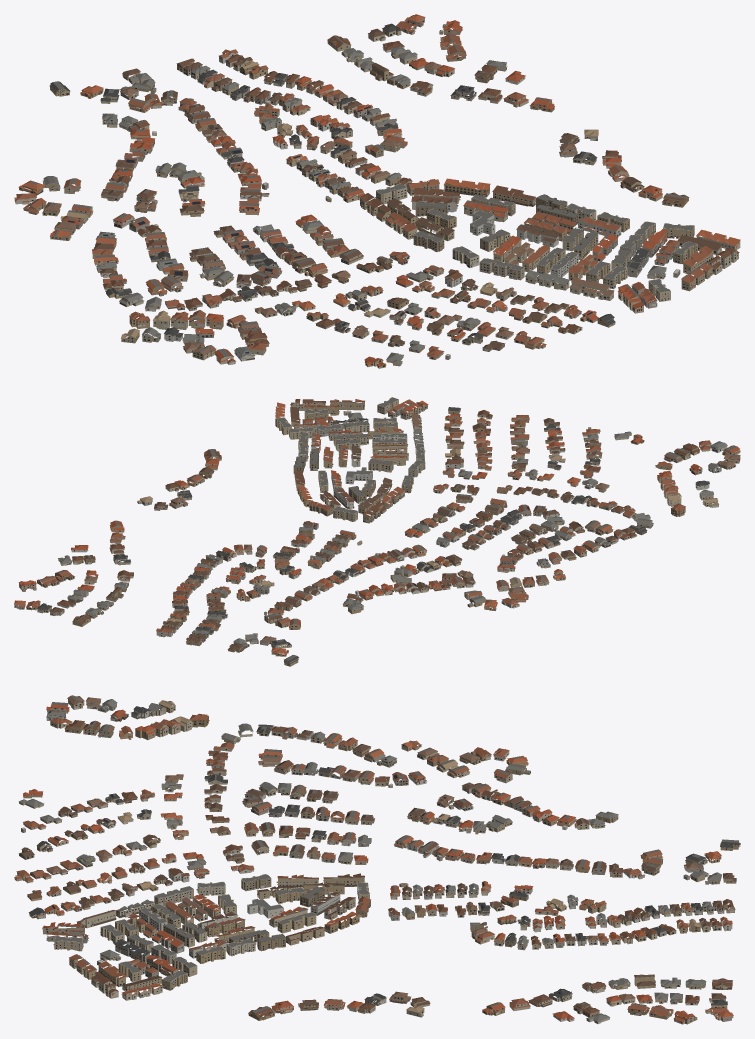
The picture shows the model from 3 angles, top to bottom: view 1: azimuth 30°, elevation 25°; view 2: azimuth 150°, elevation 25°; view 3: azimuth 270°, elevation 25°; orthographic projection. The views are drawn at different scales.
Parts seen in each view (by area): view 1: buildings_r1_c6_lod0; view 2: buildings_r1_c6_lod0; view 3: buildings_r1_c6_lod0.
Boxes of the visible parts, x1,y1,x2,y2 form: buildings_r1_c6_lod0: [14, 14, 740, 368]; buildings_r1_c6_lod0: [14, 397, 740, 666]; buildings_r1_c6_lod0: [14, 695, 740, 1024].
Size of the model in its own units: 729 by 86.96 by 806.
